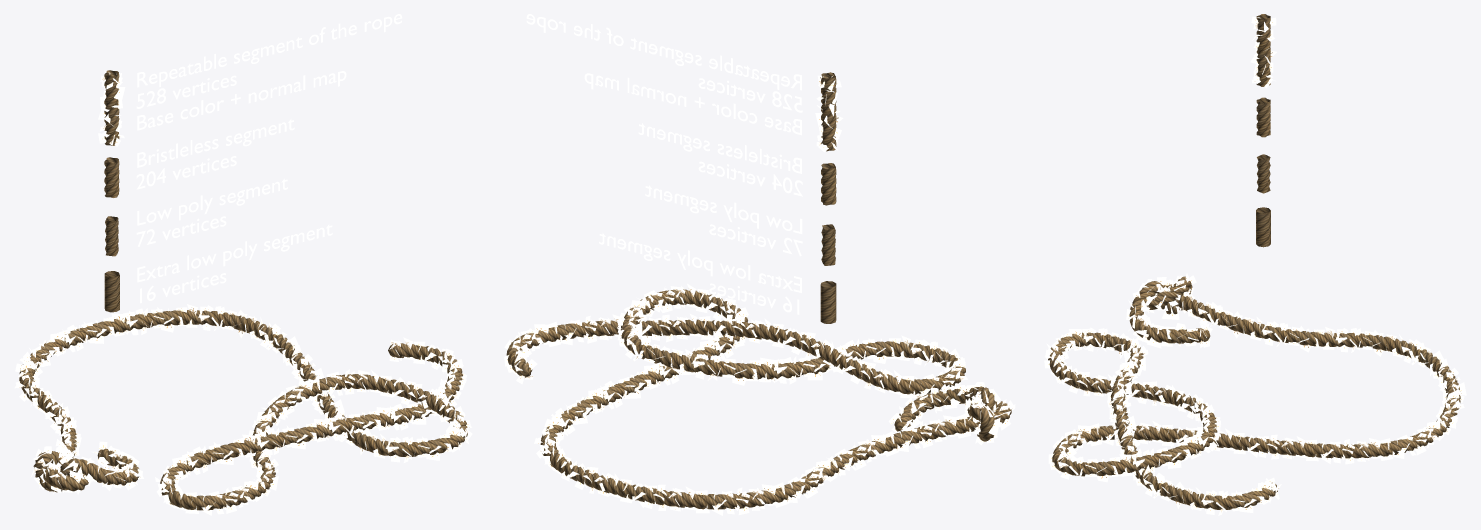
The model's file is repeatable_game_ready_rope_segment.glb.
The picture shows the model from 3 angles, left to right: view 1: azimuth 30°, elevation 25°; view 2: azimuth 150°, elevation 25°; view 3: azimuth 270°, elevation 25°; orthographic projection. The views are drawn at different scales.
Visible parts, largest first — view 1: Circle.008, Text.001, Text.005, Text.007, corde polis, Text.006, Cylinder, corde neutre, corde neutre.003; view 2: Circle.008, Text.001, Text.007, Text.005, corde polis, Text.006, Cylinder, corde neutre; view 3: Circle.008, corde polis, Cylinder, corde neutre, corde neutre.003.
Boxes of the visible parts, x1,y1,x2,y2 form: Circle.008: (14,304,472,515); Text.001: (136,14,402,130); Text.005: (136,119,294,189); Text.007: (137,224,332,303); corde polis: (98,70,125,146); Text.006: (136,178,287,246); Cylinder: (104,271,119,312); corde neutre: (104,157,119,197); corde neutre.003: (105,216,118,256); Circle.008: (503,283,1015,515); Text.001: (526,14,802,135); Text.007: (599,233,801,314); Text.005: (638,123,802,196); corde polis: (815,72,843,152); Text.006: (645,185,802,256); Cylinder: (820,281,836,323); corde neutre: (821,163,836,205); Circle.008: (1044,273,1466,515); corde polis: (1250,14,1276,88); Cylinder: (1256,207,1270,247); corde neutre: (1256,97,1270,137); corde neutre.003: (1257,154,1270,193).
Bounding box in the file's own units: 98.17 × 76.16 × 83.37.
4 materials, 3 textured.
